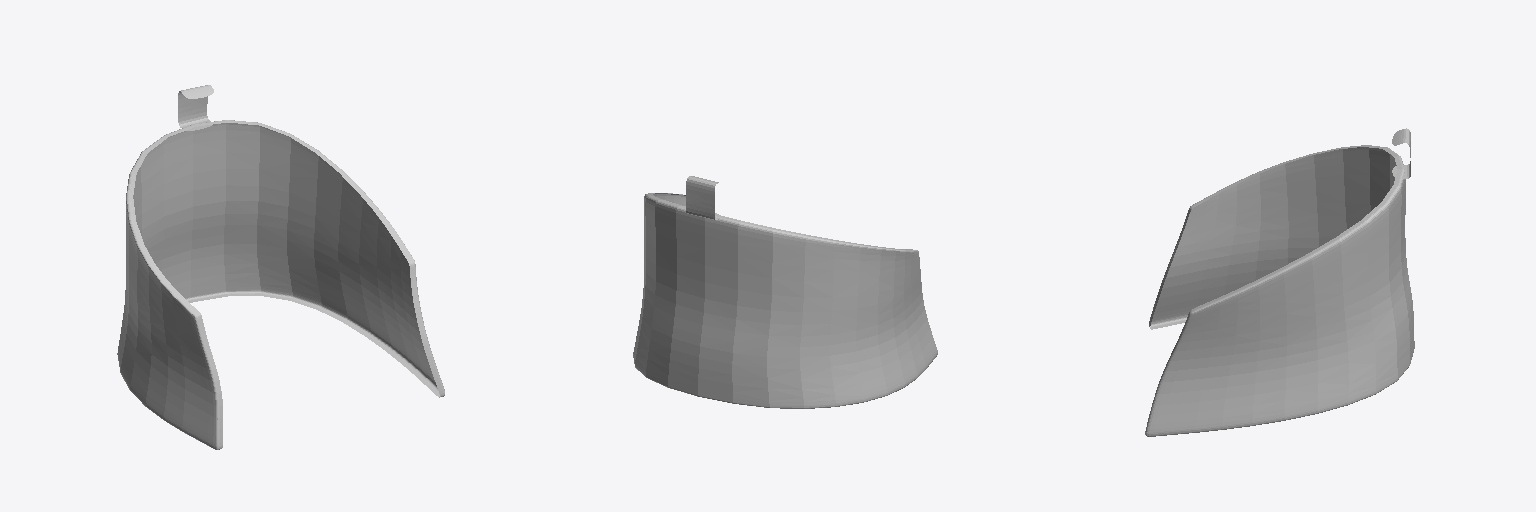
File: back.obj
3 renders of one model, left to right at view 1: azimuth 30°, elevation 25°; view 2: azimuth 150°, elevation 25°; view 3: azimuth 270°, elevation 25°, orthographic.
Parts seen in each view (by area): view 1: Back_Back.001, Back_logos_hingy.001; view 2: Back_Back.001, Back_logos_hingy.001; view 3: Back_Back.001.
Boxes of the visible parts, box(x1,y1,x2,y2) form: Back_Back.001: box(117, 120, 444, 449); Back_logos_hingy.001: box(178, 85, 213, 130); Back_Back.001: box(633, 193, 937, 408); Back_logos_hingy.001: box(686, 176, 718, 219); Back_Back.001: box(1145, 145, 1414, 436).
Size of the model in its own units: 64.15 by 60.21 by 60.42.